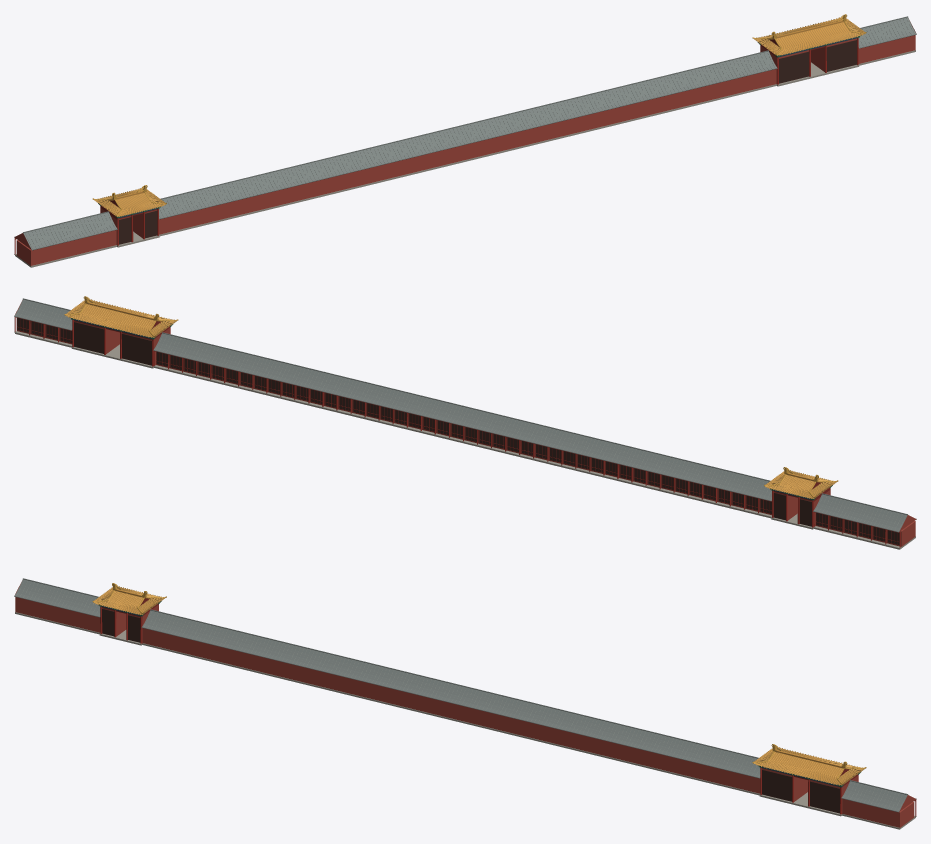
File: axis-ne-preview.glb
The picture shows the model from 3 angles, top to bottom: view 1: azimuth 30°, elevation 25°; view 2: azimuth 150°, elevation 25°; view 3: azimuth 330°, elevation 25°; orthographic projection.
Parts seen in each view (by area): view 1: axis-ne grayRoof, axis-ne wall, axis-ne grayTile, axis-ne roof, axis-ne stone, axis-ne grayRidge, axis-ne tile, axis-ne wood; view 2: axis-ne grayRoof, axis-ne wood, axis-ne redDark, axis-ne grayTile, axis-ne stone, axis-ne wall, axis-ne roof, axis-ne red, axis-ne grayRidge, axis-ne tile; view 3: axis-ne grayRoof, axis-ne wall, axis-ne grayTile, axis-ne roof, axis-ne stone, axis-ne grayRidge, axis-ne tile, axis-ne wood, axis-ne red.
Boxes of the visible parts, x1,y1,x2,y2 form: axis-ne grayRoof: (23, 17, 916, 249); axis-ne wall: (14, 18, 916, 265); axis-ne grayTile: (25, 18, 914, 248); axis-ne roof: (94, 17, 864, 216); axis-ne stone: (14, 50, 915, 267); axis-ne grayRidge: (14, 16, 916, 250); axis-ne tile: (93, 16, 865, 216); axis-ne wood: (119, 40, 856, 244); axis-ne grayRoof: (14, 299, 907, 531); axis-ne wood: (17, 318, 899, 545); axis-ne redDark: (17, 318, 900, 545); axis-ne grayTile: (16, 300, 905, 531); axis-ne stone: (14, 331, 915, 549); axis-ne wall: (14, 300, 916, 546); axis-ne roof: (66, 299, 836, 498); axis-ne red: (14, 317, 900, 547); axis-ne grayRidge: (14, 298, 916, 532); axis-ne tile: (65, 298, 837, 498); axis-ne grayRoof: (14, 579, 907, 811); axis-ne wall: (15, 582, 916, 827); axis-ne grayTile: (16, 580, 905, 811); axis-ne roof: (94, 586, 862, 784); axis-ne stone: (15, 612, 916, 829); axis-ne grayRidge: (14, 578, 916, 812); axis-ne tile: (93, 585, 865, 785); axis-ne wood: (102, 608, 839, 813); axis-ne red: (100, 605, 916, 816).
Bounding box in the file's own units: 2.56 × 0.1297 × 0.1201.
